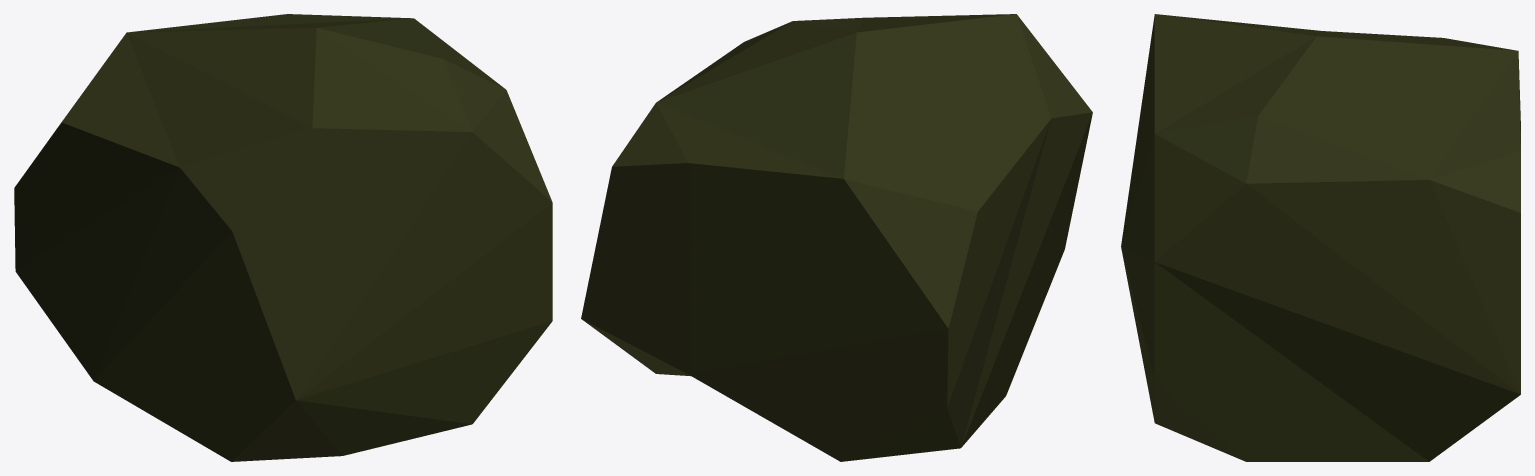
3 renders of one model, left to right at view 1: azimuth 30°, elevation 25°; view 2: azimuth 150°, elevation 25°; view 3: azimuth 270°, elevation 25°, orthographic. The views are drawn at different scales.
Parts seen in each view (by area): view 1: SM_BO_Bush_Large_LOD0; view 2: SM_BO_Bush_Large_LOD0; view 3: SM_BO_Bush_Large_LOD0.
Boxes of the visible parts, box(x1,y1,x2,y2) form: SM_BO_Bush_Large_LOD0: box(14, 14, 552, 461); SM_BO_Bush_Large_LOD0: box(581, 14, 1092, 461); SM_BO_Bush_Large_LOD0: box(1121, 14, 1520, 461).
Size of the model in its own units: 1.94 by 1.82 by 1.76.
